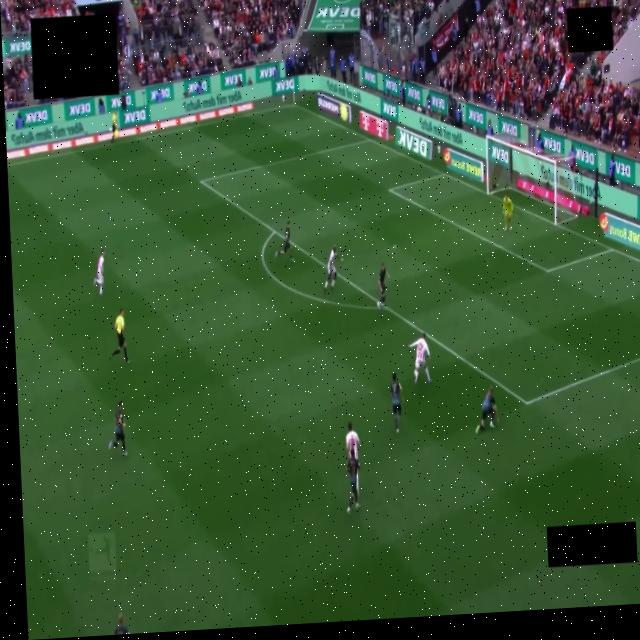player: (408, 333, 430, 383), (475, 387, 497, 433), (108, 402, 126, 456), (346, 451, 359, 514), (324, 246, 341, 293), (390, 373, 402, 433), (275, 222, 292, 262), (345, 421, 359, 459), (345, 422, 359, 459), (376, 264, 388, 307), (502, 194, 514, 231), (94, 251, 103, 296), (114, 614, 128, 634)
referee: (109, 309, 128, 362)
